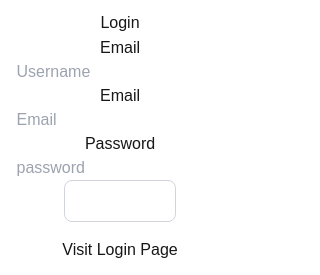
Test case: SignUpPage › Render button with 'SignUp' with both Email & Password values
The image size is (320, 275).
Type "test@gmail.com" into the field with placeholder "Email". click: {"x": 120, "y": 120}
box: [16, 108, 224, 132]
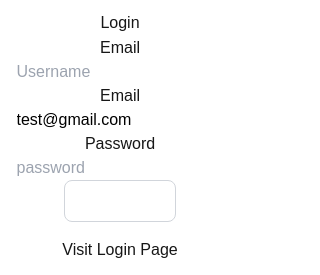
Type "1234" into the password field with placeholder "password". click: {"x": 120, "y": 168}
box: [16, 156, 224, 180]
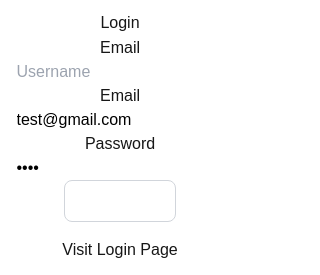
Type "test" into the field with placeholder "Username". click: {"x": 120, "y": 72}
box: [16, 60, 224, 84]
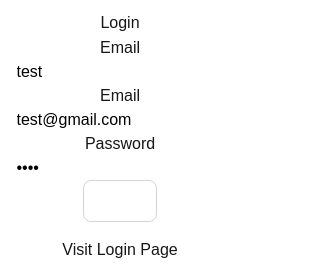
Expected: the button reads "Sign Up", [82, 180, 157, 222]
